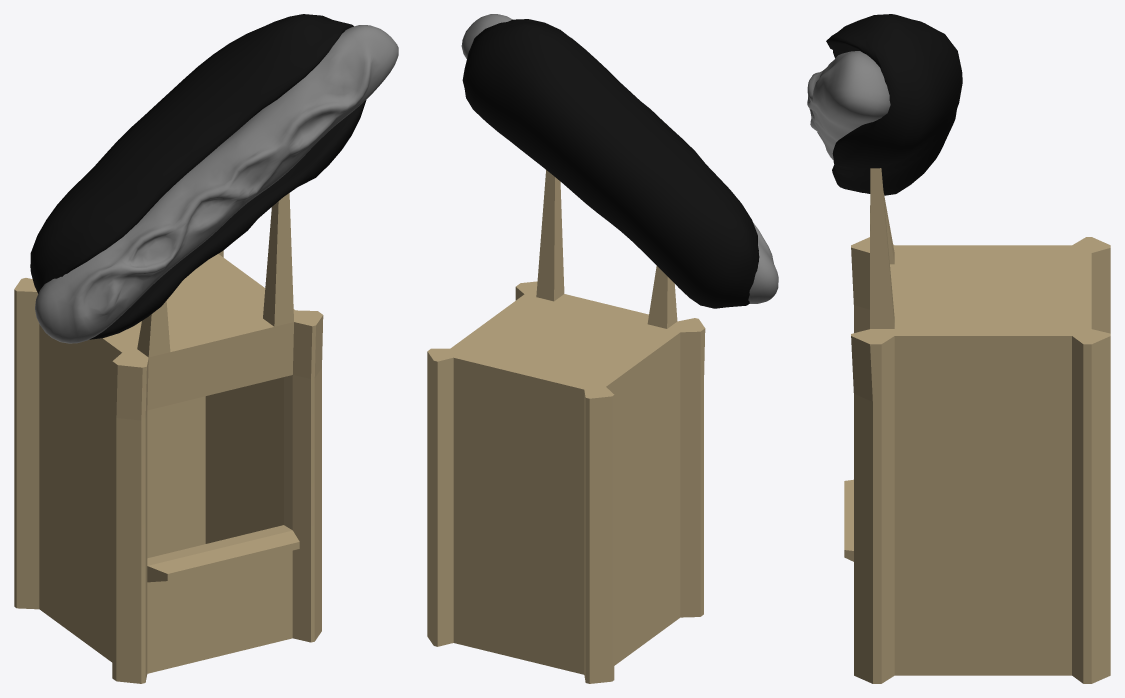
Rendered from SM_HotDogBooth.fbx.
3 renders of one model, left to right at view 1: azimuth 30°, elevation 25°; view 2: azimuth 150°, elevation 25°; view 3: azimuth 270°, elevation 25°, orthographic. The views are drawn at different scales.
Visible parts, largest first — view 1: HotBooth_low, Bun_low, Dog_Low; view 2: HotBooth_low, Bun_low, Dog_Low; view 3: HotBooth_low, Bun_low, Dog_Low.
Part boxes in pixels (x1=…): HotBooth_low: x1=14, y1=193, x2=323, y2=683; Bun_low: x1=30, y1=14, x2=366, y2=339; Dog_Low: x1=35, y1=25, x2=398, y2=343; HotBooth_low: x1=427, y1=170, x2=705, y2=683; Bun_low: x1=462, y1=19, x2=759, y2=308; Dog_Low: x1=461, y1=14, x2=778, y2=303; HotBooth_low: x1=844, y1=168, x2=1110, y2=683; Bun_low: x1=826, y1=14, x2=962, y2=195; Dog_Low: x1=807, y1=51, x2=890, y2=160.
Size of the model in its own units: 158 by 265 by 111.
